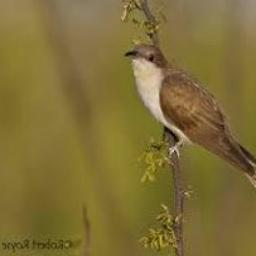Cuckoo: (125, 44, 256, 233)
